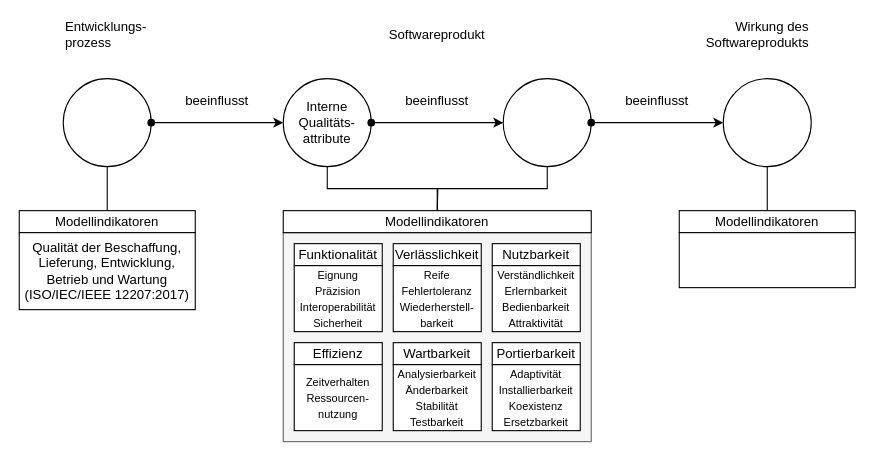
Some shapes in this 875 by 461 pixel diagram are drawn without their labels. Each missing label, with the centre of its shape:
"Externe Qualitäts- attribute" goes at pixel 546 122.
"Nutzungs- qualität" goes at pixel 766 122.
"Produktivität, Sicherheit, Zufriedenstellung, Effektivität" goes at pixel 766 260.
"Prozess- Qualität" goes at pixel 106 122.
